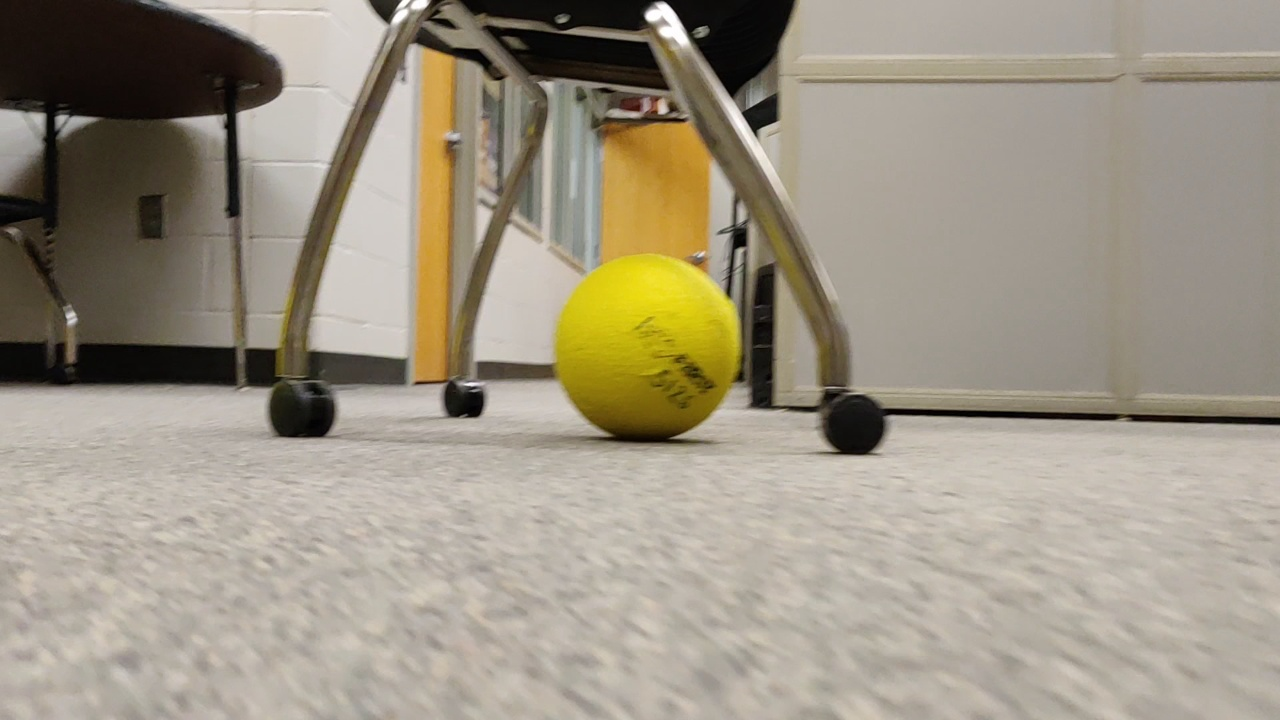Ball: (554, 253, 739, 445)
